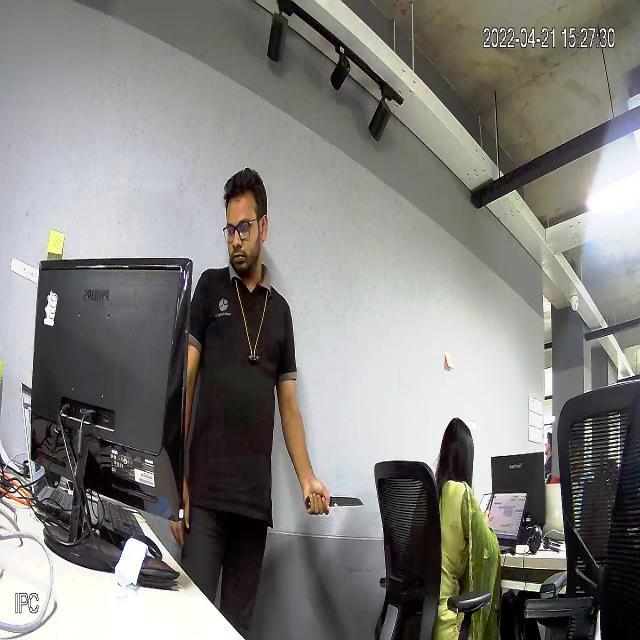Knife: (304, 478, 372, 524)
